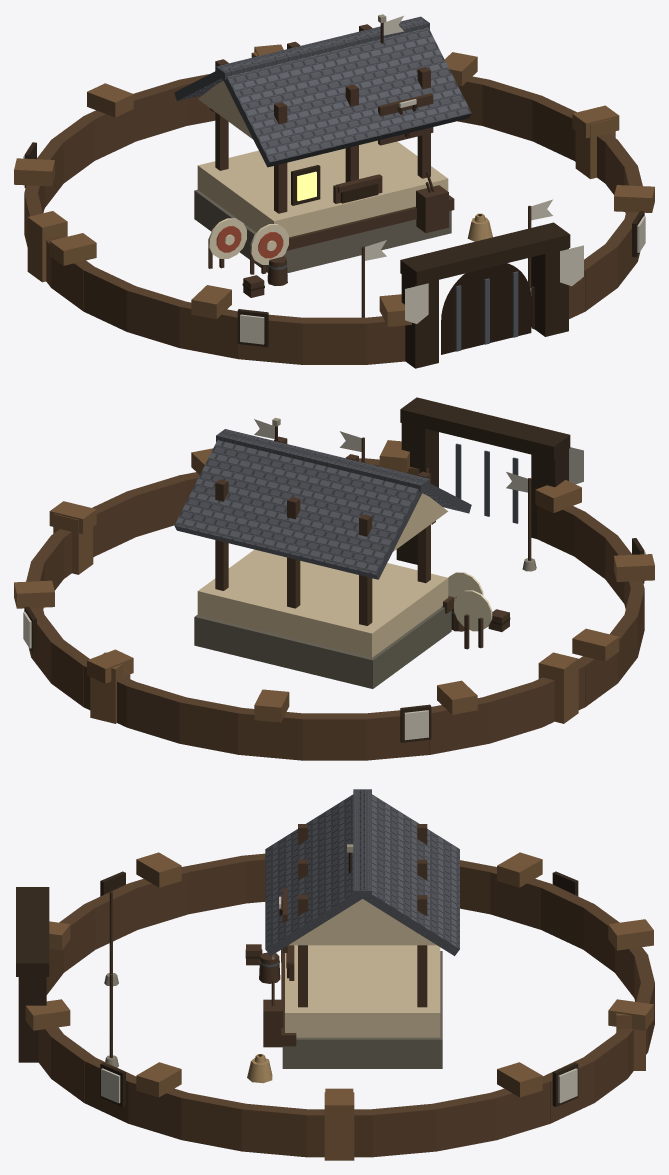
The model's file is town-archer-L1.glb.
3 views of the same model, one above another, from view 1: azimuth 30°, elevation 25°; view 2: azimuth 150°, elevation 25°; view 3: azimuth 270°, elevation 25° (orthographic).
Visible parts, largest first — view 1: building-archer-L1, object 8, object 9, object 10, object 12, object 11, object 2, object 13, object 7, object 5; view 2: building-archer-L1, object 8, object 9, object 10, object 11, object 13, object 2, object 7; view 3: building-archer-L1, object 8, object 9, object 10, object 2, object 11, object 5.
Part boxes in pixels (bbox=[...]): building-archer-L1: bbox=[174, 14, 471, 274]; object 8: bbox=[24, 74, 644, 364]; object 9: bbox=[14, 44, 654, 326]; object 10: bbox=[24, 142, 644, 368]; object 12: bbox=[441, 263, 531, 354]; object 11: bbox=[23, 148, 645, 344]; object 2: bbox=[243, 205, 531, 317]; object 13: bbox=[455, 271, 518, 351]; object 7: bbox=[365, 199, 552, 260]; object 5: bbox=[467, 213, 492, 241]; building-archer-L1: bbox=[174, 417, 492, 688]; object 8: bbox=[24, 458, 644, 760]; object 9: bbox=[14, 440, 654, 723]; object 10: bbox=[24, 397, 644, 742]; object 11: bbox=[23, 447, 645, 740]; object 13: bbox=[455, 443, 518, 523]; object 2: bbox=[361, 437, 531, 631]; object 7: bbox=[340, 431, 527, 492]; building-archer-L1: bbox=[263, 789, 459, 1068]; object 8: bbox=[38, 853, 654, 1157]; object 9: bbox=[25, 852, 653, 1160]; object 10: bbox=[16, 871, 578, 1106]; object 2: bbox=[109, 891, 280, 1058]; object 11: bbox=[101, 1068, 577, 1103]; object 5: bbox=[247, 1054, 272, 1083].
Bounding box in the file's own units: 7.02 × 2.44 × 6.89.
16 materials, 1 textured.
